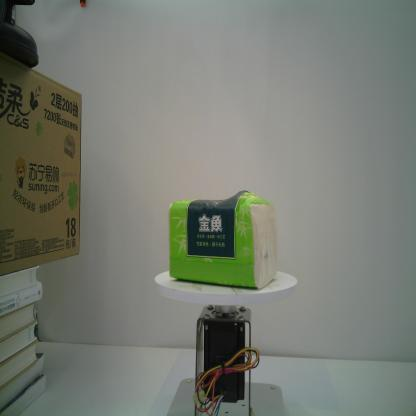Tissue: (169, 190, 277, 290)
